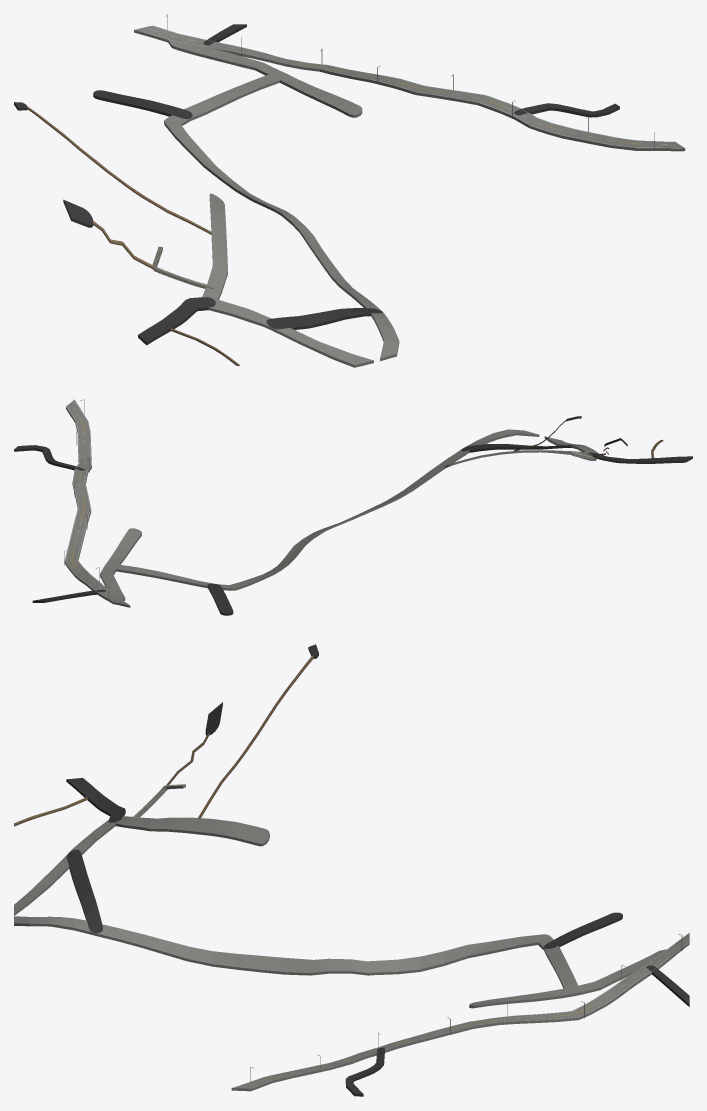
Rendered from 17-109436-59487.7a95cca8.glb.
3 renders of one model, top to bottom at view 1: azimuth 30°, elevation 25°; view 2: azimuth 150°, elevation 25°; view 3: azimuth 270°, elevation 25°, orthographic. The views are drawn at different scales.
Bounding box in the file's own units: 296 × 93.57 × 293.
